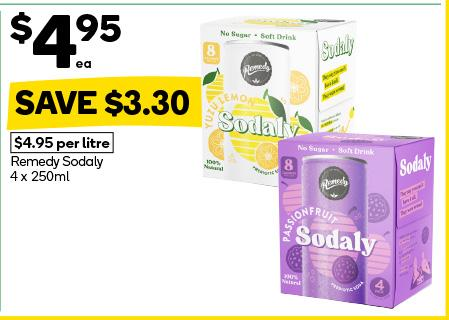description_block: (4, 154, 110, 185)
price_main: (5, 8, 136, 77)
product_image_block: (191, 20, 437, 310)
promo_text_block: (0, 78, 204, 130)
unit_price_block: (7, 130, 118, 155)
